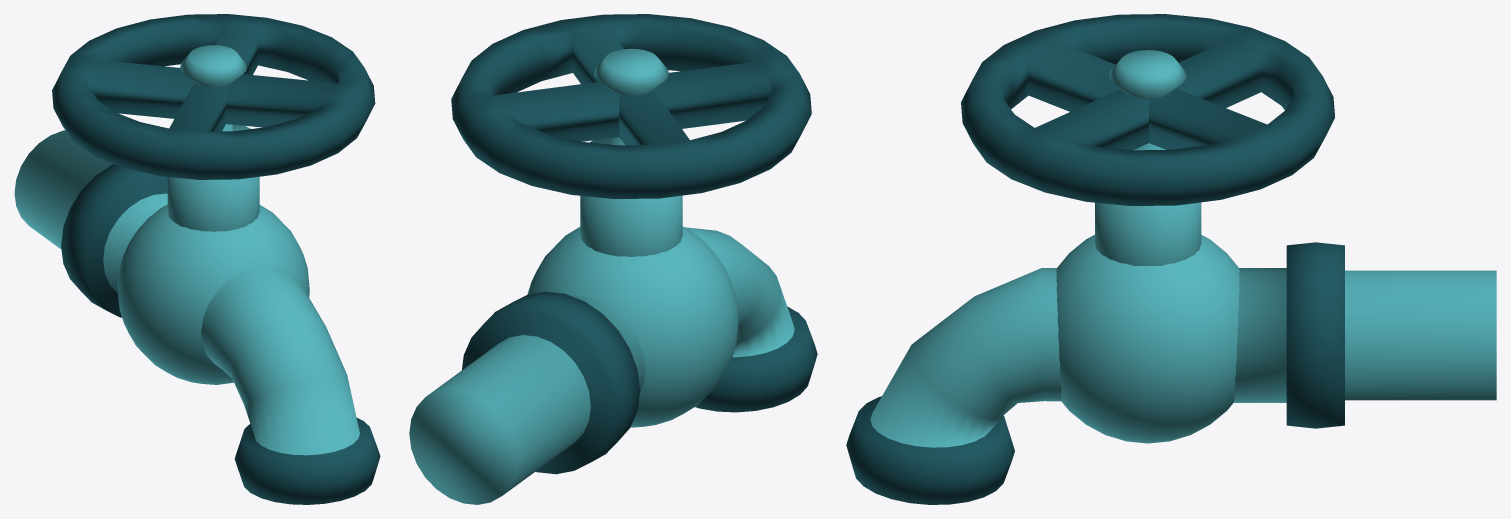
File: Kran Air.fbx
3 renders of one model, left to right at view 1: azimuth 30°, elevation 25°; view 2: azimuth 150°, elevation 25°; view 3: azimuth 270°, elevation 25°, orthographic. The views are drawn at different scales.
Visible parts, largest first — view 1: Circle; view 2: Circle; view 3: Circle.
Part boxes in pixels (x1,y1,x2,y2): Circle: [14, 14, 380, 504]; Circle: [409, 14, 817, 504]; Circle: [846, 14, 1496, 504].
Size of the model in its own units: 26.55 by 32.36 by 46.15.
